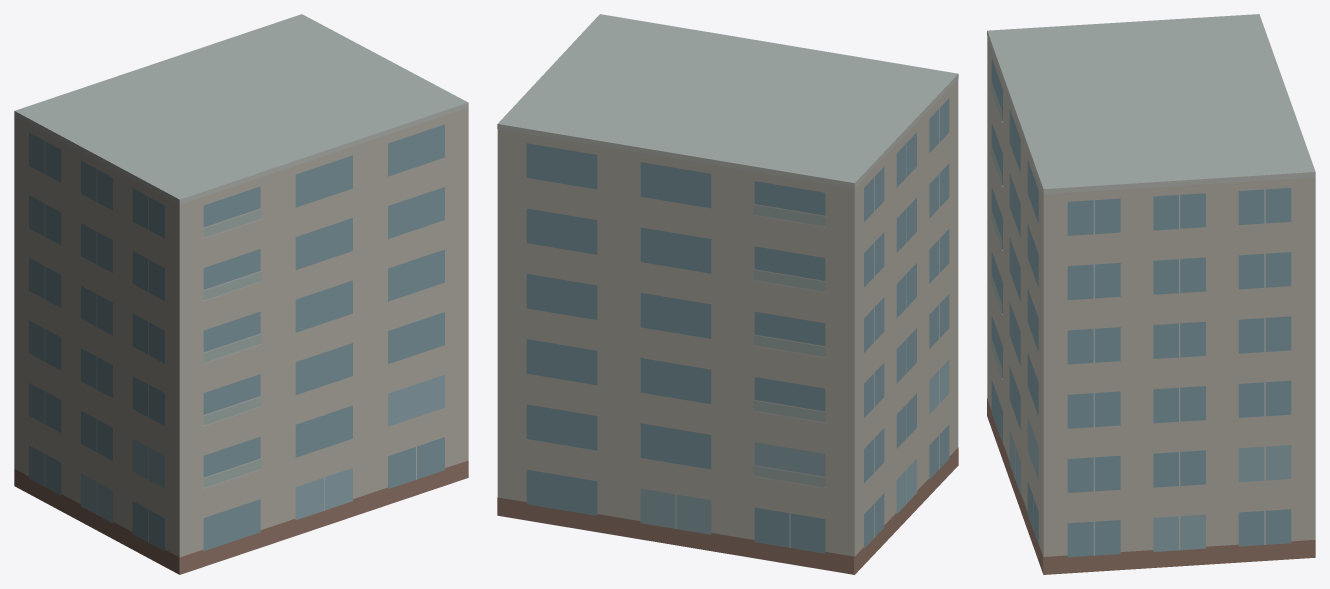
Rendered from survey-upis-32706779.glb.
3 views of the same model, side by side, from view 1: azimuth 30°, elevation 25°; view 2: azimuth 150°, elevation 25°; view 3: azimuth 270°, elevation 25° (orthographic). The views are drawn at different scales.
Visible parts, largest first — view 1: survey-upis-32706779.tmp; view 2: survey-upis-32706779.tmp; view 3: survey-upis-32706779.tmp.
Part boxes in pixels (x1=…): survey-upis-32706779.tmp: x1=14, y1=14, x2=468, y2=574; survey-upis-32706779.tmp: x1=497, y1=14, x2=958, y2=574; survey-upis-32706779.tmp: x1=987, y1=14, x2=1315, y2=574.
Size of the model in its own units: 17.83 by 18.3 by 14.13.
